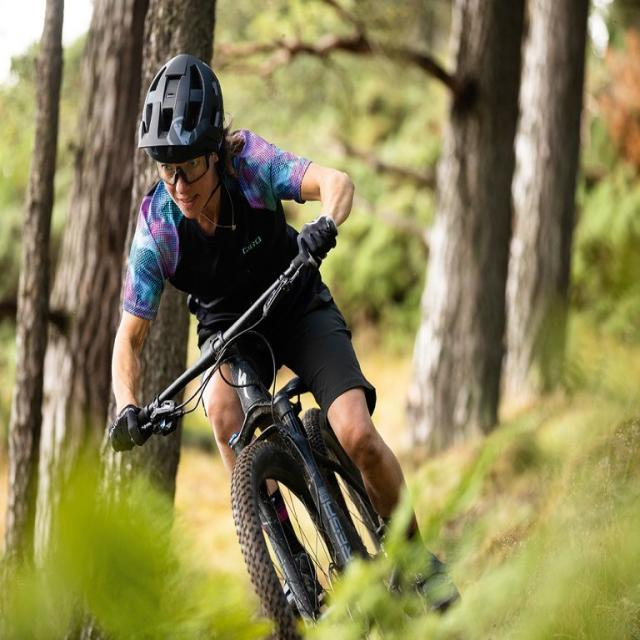helmet: (132, 49, 232, 162)
